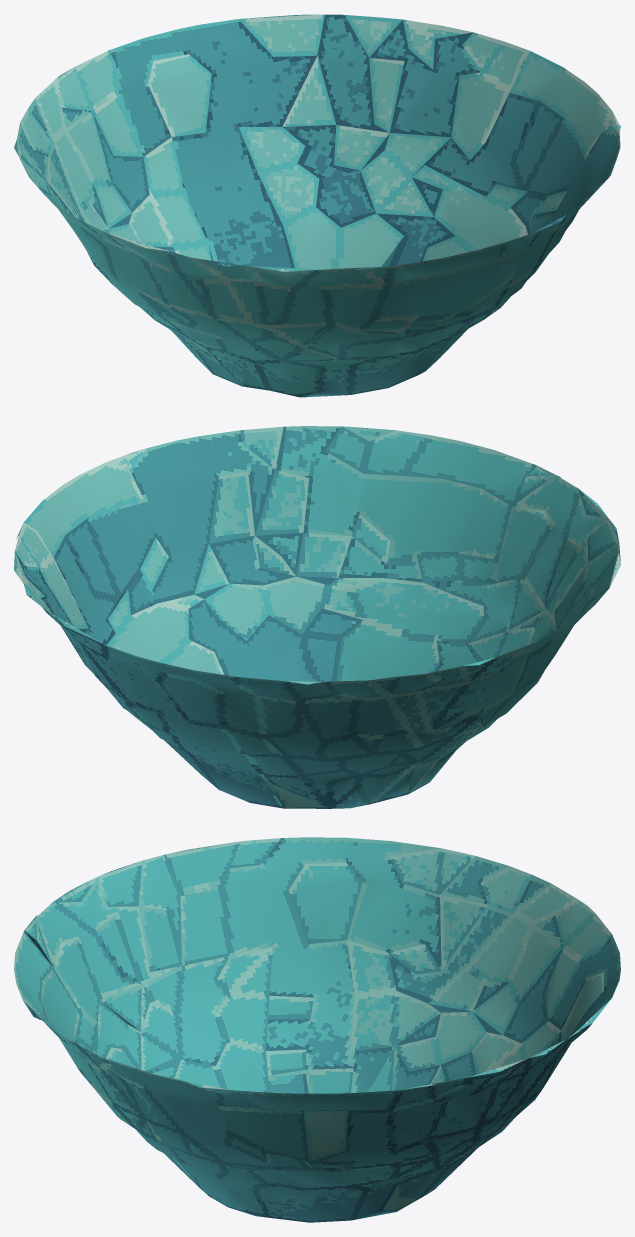
Rendered from bowl_empty.glb.
3 renders of one model, top to bottom at view 1: azimuth 30°, elevation 25°; view 2: azimuth 150°, elevation 25°; view 3: azimuth 270°, elevation 25°, orthographic.
Visible parts, largest first — view 1: mesh; view 2: mesh; view 3: mesh.
Boxes of the visible parts, x1,y1,x2,y2 form: mesh: (14, 14, 620, 397); mesh: (14, 426, 620, 808); mesh: (14, 837, 620, 1222).
Size of the model in its own units: 0.2141 by 0.08 by 0.2141.
Materials: 1 (1 with a texture image).
